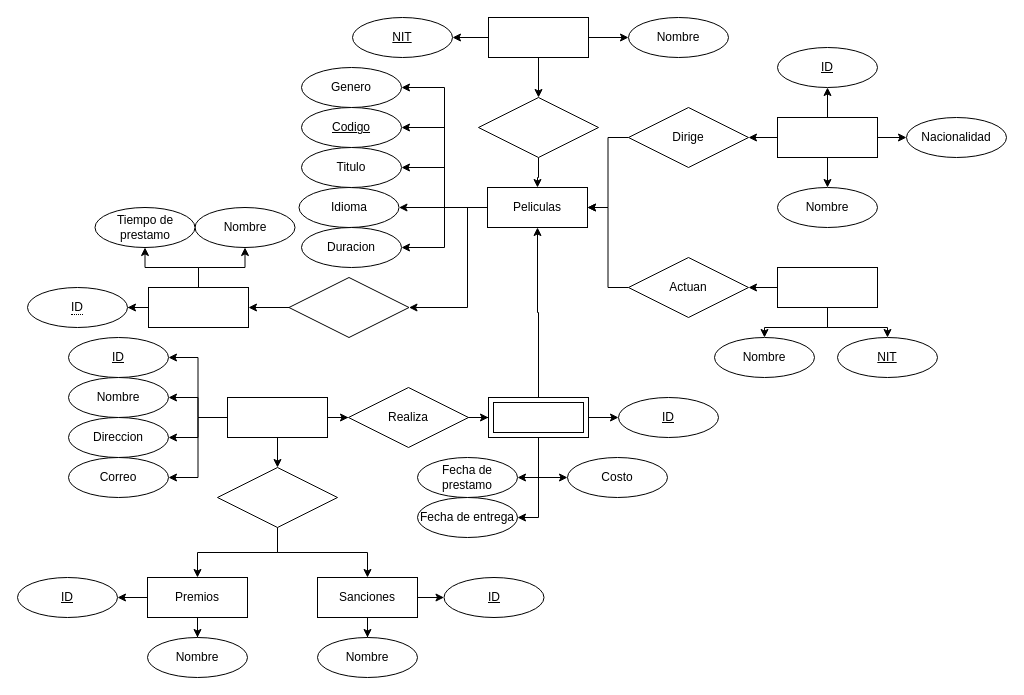
Image size: 1024x695. Some labels were removed from this diagram. The shapes that lost their labels are listed below. From the top down, each one's centre as x and y in pixels, then its label:
the point at 538,37: Tienda
the point at 538,127: Contiene
the point at 827,137: Directores
the point at 198,307: Formato
the point at 348,307: Tiene
the point at 827,287: Actores
the point at 277,417: Usuarios
the point at 538,417: Prestamo
the point at 277,497: Reciben
